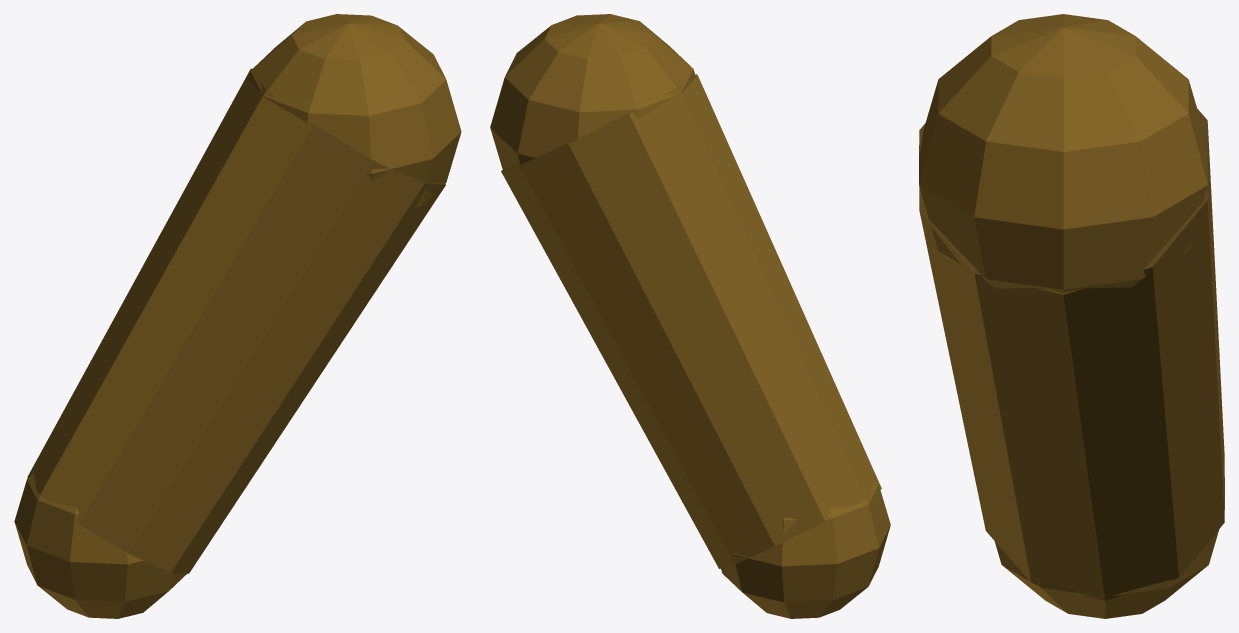
File: SM_triceratops_hind_l_Lower.fbx
The picture shows the model from 3 angles, left to right: view 1: azimuth 30°, elevation 25°; view 2: azimuth 150°, elevation 25°; view 3: azimuth 270°, elevation 25°; orthographic projection. The views are drawn at different scales.
Parts seen in each view (by area): view 1: SM_triceratops_hind_l_Lower export; view 2: SM_triceratops_hind_l_Lower export; view 3: SM_triceratops_hind_l_Lower export.
Part boxes in pixels (bbox=[...]): SM_triceratops_hind_l_Lower export: bbox=[14, 14, 461, 618]; SM_triceratops_hind_l_Lower export: bbox=[490, 14, 890, 618]; SM_triceratops_hind_l_Lower export: bbox=[919, 14, 1224, 618].
Size of the model in its own units: 144 by 70.48 by 185.
